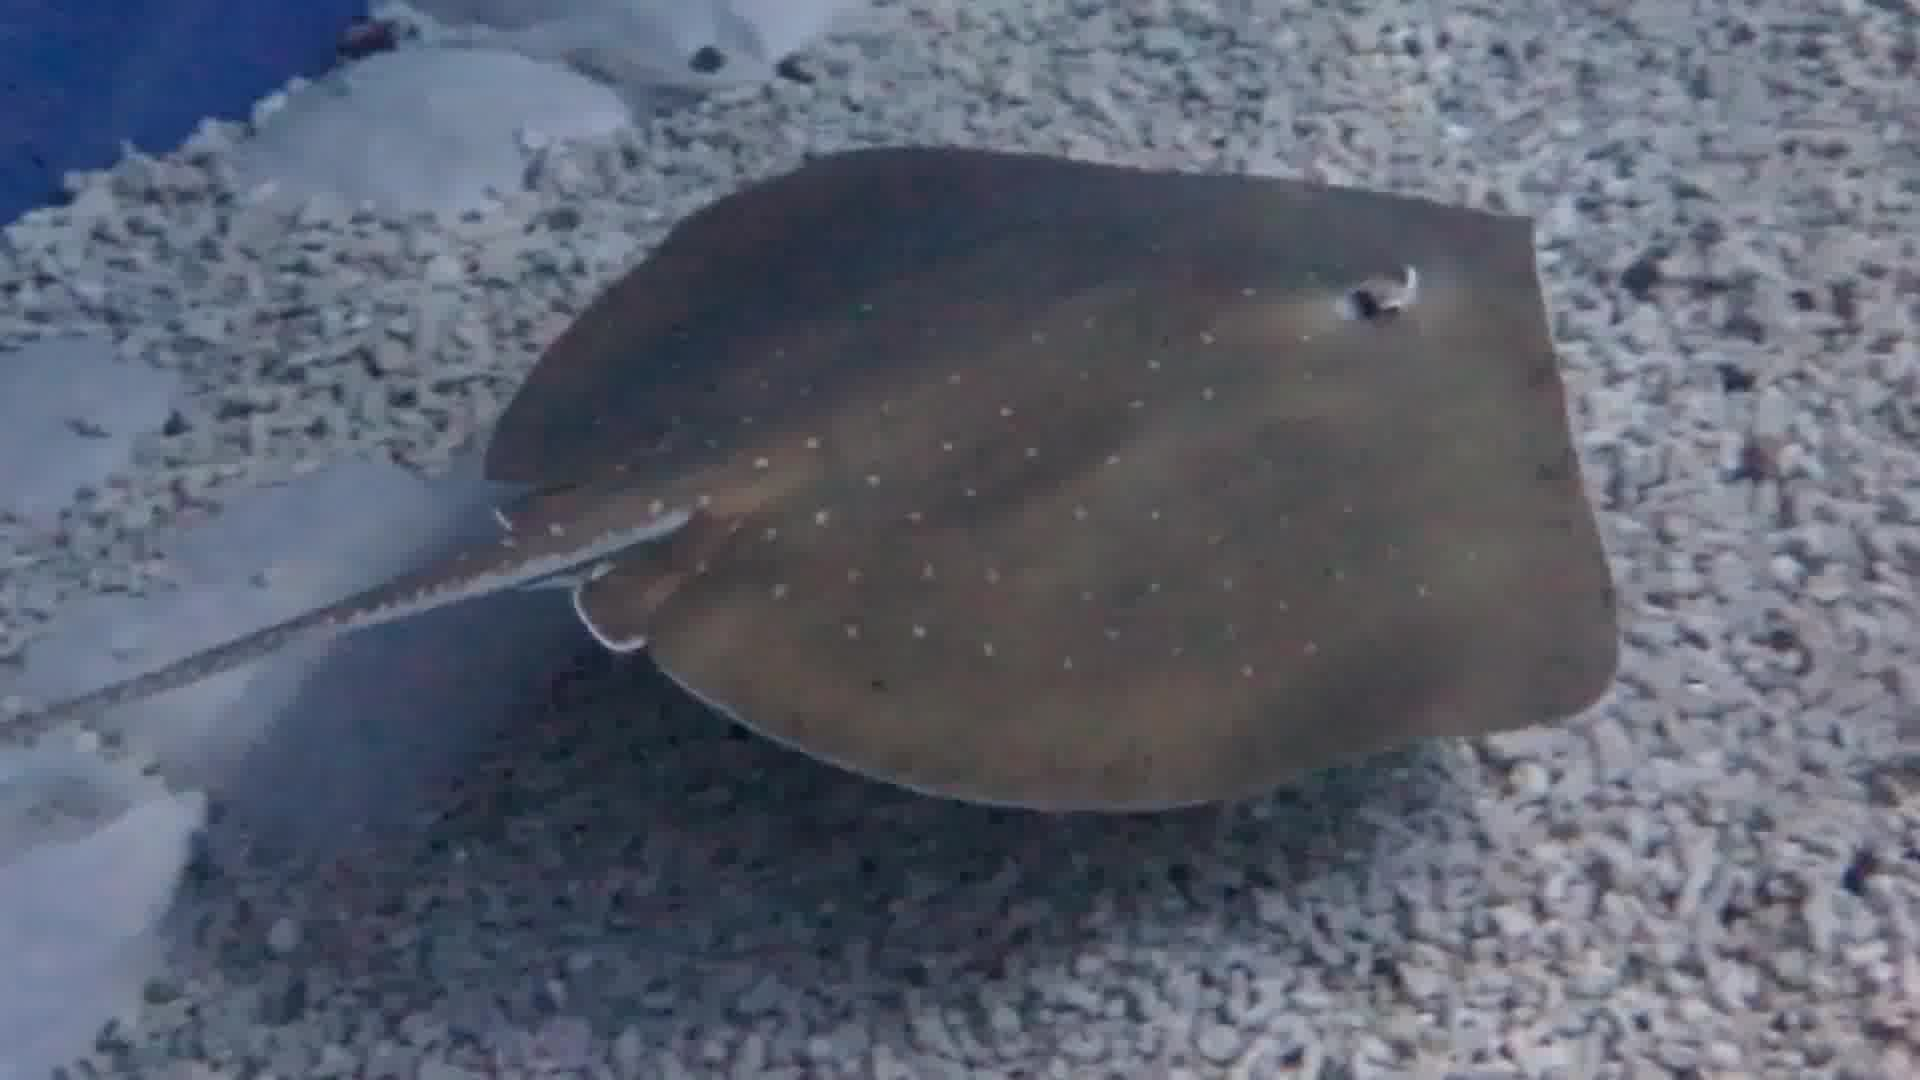Himantura gerrardi: (18, 131, 1642, 814)
